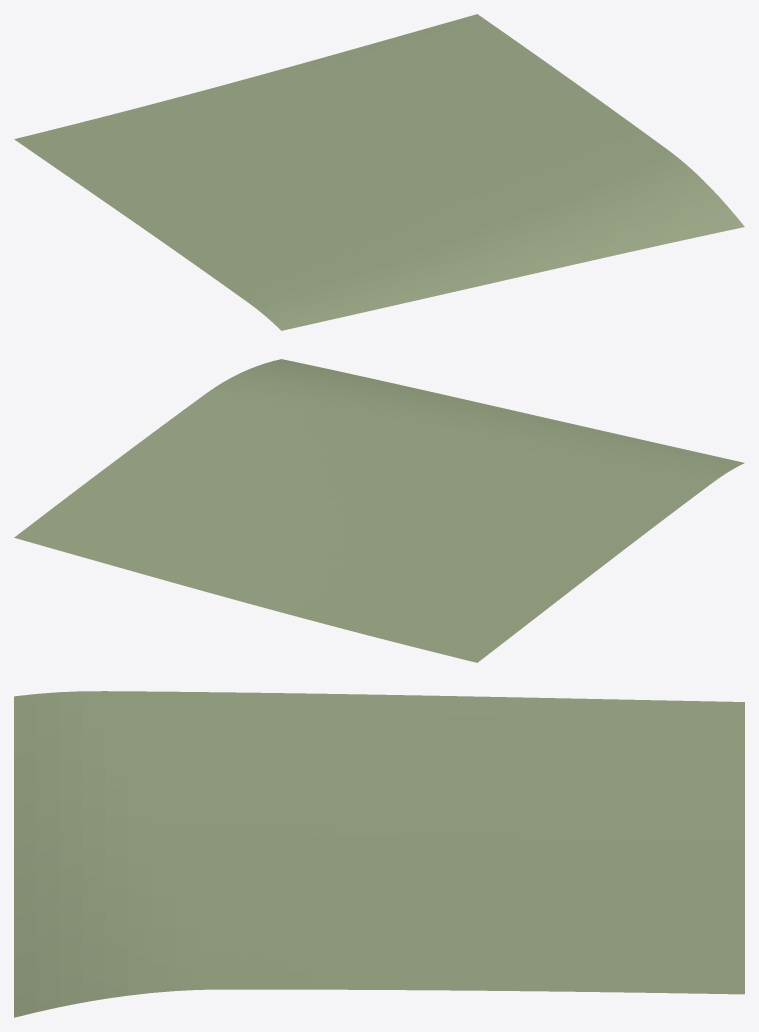
Rendered from expanse-19-8.glb.
The picture shows the model from 3 angles, top to bottom: view 1: azimuth 30°, elevation 25°; view 2: azimuth 150°, elevation 25°; view 3: azimuth 270°, elevation 25°; orthographic projection. The views are drawn at different scales.
Parts seen in each view (by area): view 1: expanse-19-8; view 2: expanse-19-8; view 3: expanse-19-8.
Part boxes in pixels (box(x1,y1,x2,y2)): expanse-19-8: box(14, 14, 744, 330); expanse-19-8: box(14, 359, 744, 662); expanse-19-8: box(14, 691, 744, 1017).
Size of the model in its own units: 256 by 10.95 by 256.
